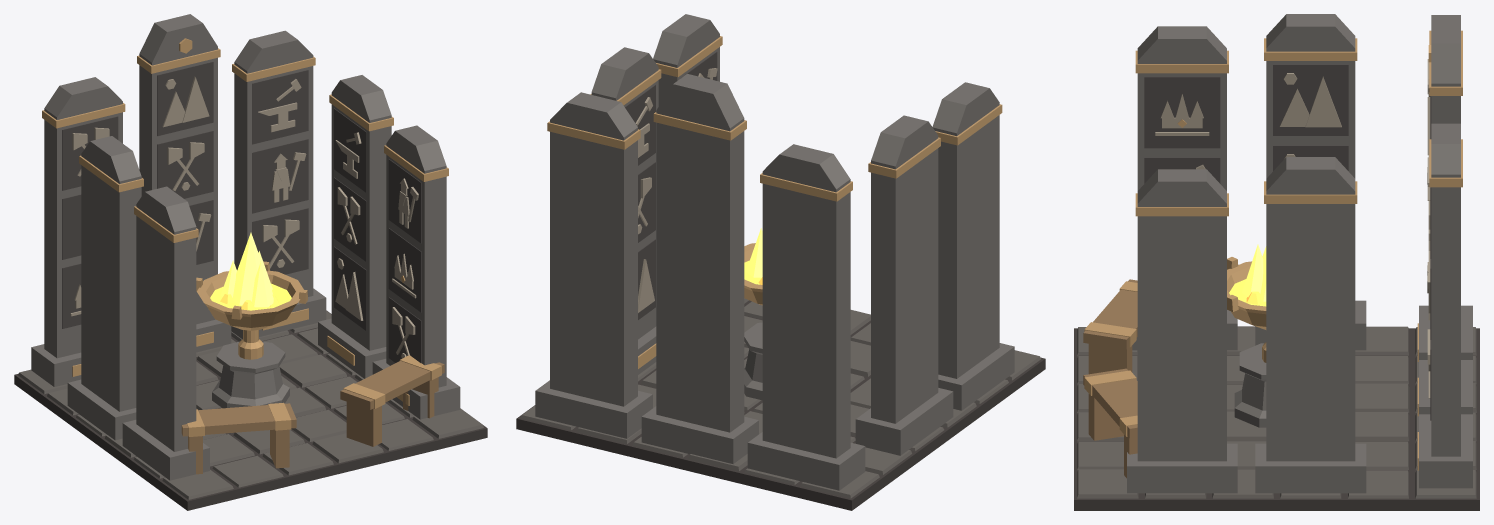
File: halloflegends.glb
The picture shows the model from 3 angles, left to right: view 1: azimuth 30°, elevation 25°; view 2: azimuth 150°, elevation 25°; view 3: azimuth 270°, elevation 25°; orthographic projection. The views are drawn at different scales.
Parts seen in each view (by area): view 1: floor, slab_back_r, slab_left_f, slab_left_b, slab_right_b, slab_back_c, slab_right_f, slab_back_l, bench_r, brazier_bowl, bench_l, brazier_pedestal (+1 smaller); view 2: slab_back_c, slab_back_l, slab_back_r, slab_left_b, slab_left_f, floor, slab_right_b, slab_right_f, brazier_pedestal, brazier_bowl; view 3: slab_right_b, slab_right_f, floor, slab_left_b, slab_back_r, slab_left_f, slab_back_c, bench_r, bench_l, brazier_pedestal, brazier_bowl, slab_back_l (+1 smaller).
Part boxes in pixels (left/top/right/bottom): floor: left=14, top=310, right=487, bottom=510; slab_back_r: left=231, top=30, right=326, bottom=339; slab_left_f: left=122, top=186, right=209, bottom=480; slab_left_b: left=67, top=136, right=143, bottom=440; slab_right_b: left=318, top=75, right=393, bottom=378; slab_back_c: left=137, top=14, right=231, bottom=352; slab_right_f: left=372, top=125, right=460, bottom=419; slab_back_l: left=31, top=77, right=125, bottom=386; bench_r: left=340, top=355, right=444, bottom=446; brazier_bowl: left=196, top=261, right=307, bottom=359; bench_l: left=181, top=402, right=296, bottom=474; brazier_pedestal: left=212, top=341, right=289, bottom=408; slab_back_c: left=641, top=74, right=758, bottom=463; slab_back_l: left=747, top=144, right=865, bottom=490; slab_back_r: left=535, top=92, right=652, bottom=438; slab_left_b: left=855, top=115, right=953, bottom=455; slab_left_f: left=932, top=82, right=1014, bottom=410; floor: left=516, top=298, right=1045, bottom=510; slab_right_b: left=590, top=47, right=661, bottom=374; slab_right_f: left=653, top=14, right=722, bottom=106; brazier_pedestal: left=744, top=322, right=762, bottom=400; brazier_bowl: left=744, top=243, right=762, bottom=305; slab_right_b: left=1255, top=157, right=1366, bottom=493; slab_right_f: left=1127, top=169, right=1237, bottom=493; floor: left=1074, top=326, right=1479, bottom=510; slab_left_b: left=1255, top=14, right=1366, bottom=350; slab_back_r: left=1417, top=123, right=1472, bottom=488; slab_left_f: left=1132, top=26, right=1237, bottom=350; slab_back_c: left=1417, top=22, right=1472, bottom=416; bench_r: left=1083, top=368, right=1137, bottom=478; bench_l: left=1083, top=279, right=1137, bottom=374; brazier_pedestal: left=1234, top=343, right=1266, bottom=427; brazier_bowl: left=1227, top=257, right=1266, bottom=362; slab_back_l: left=1417, top=15, right=1472, bottom=361.
Size of what is drawn, in the model's own units: 3 by 3.2 by 3.
